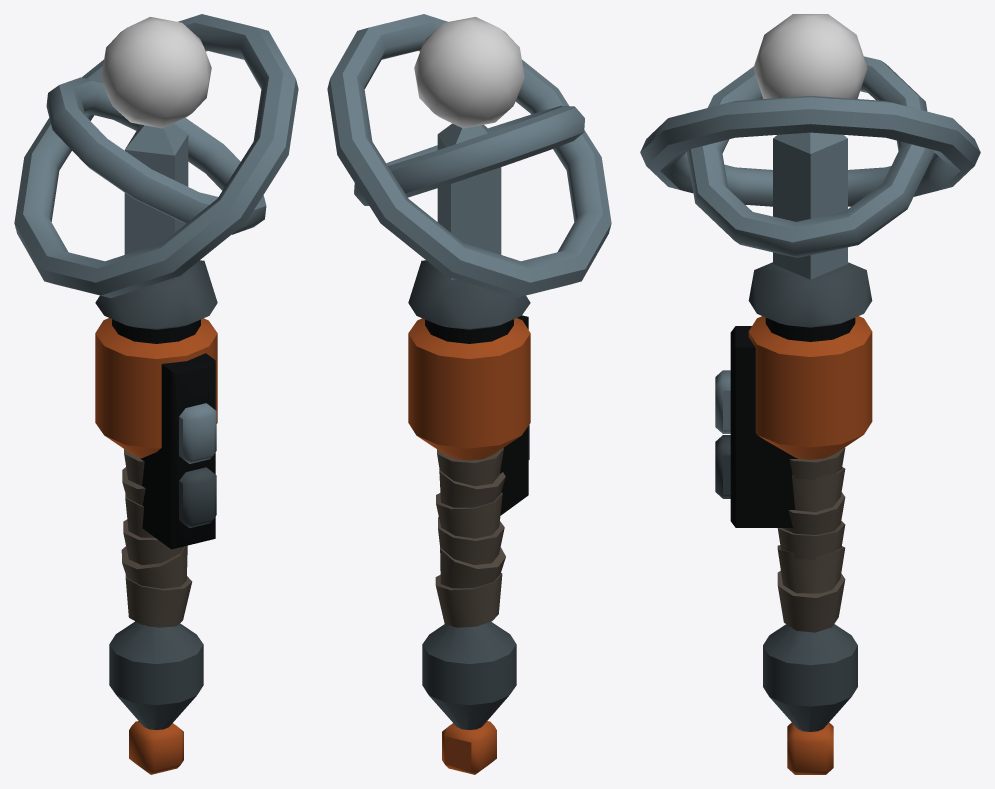
Rendered from scrap_baton.obj.
3 views of the same model, side by side, from view 1: azimuth 30°, elevation 25°; view 2: azimuth 150°, elevation 25°; view 3: azimuth 270°, elevation 25° (orthographic).
Visible parts, largest first — view 1: scrap_baton_Cylinder.078; view 2: scrap_baton_Cylinder.078; view 3: scrap_baton_Cylinder.078.
Part boxes in pixels (<box>): scrap_baton_Cylinder.078: <box>14,14,298,774</box>; scrap_baton_Cylinder.078: <box>327,14,611,774</box>; scrap_baton_Cylinder.078: <box>640,14,980,774</box>.
Bounding box in the file's own units: 0.3109 × 0.9541 × 0.3918.
